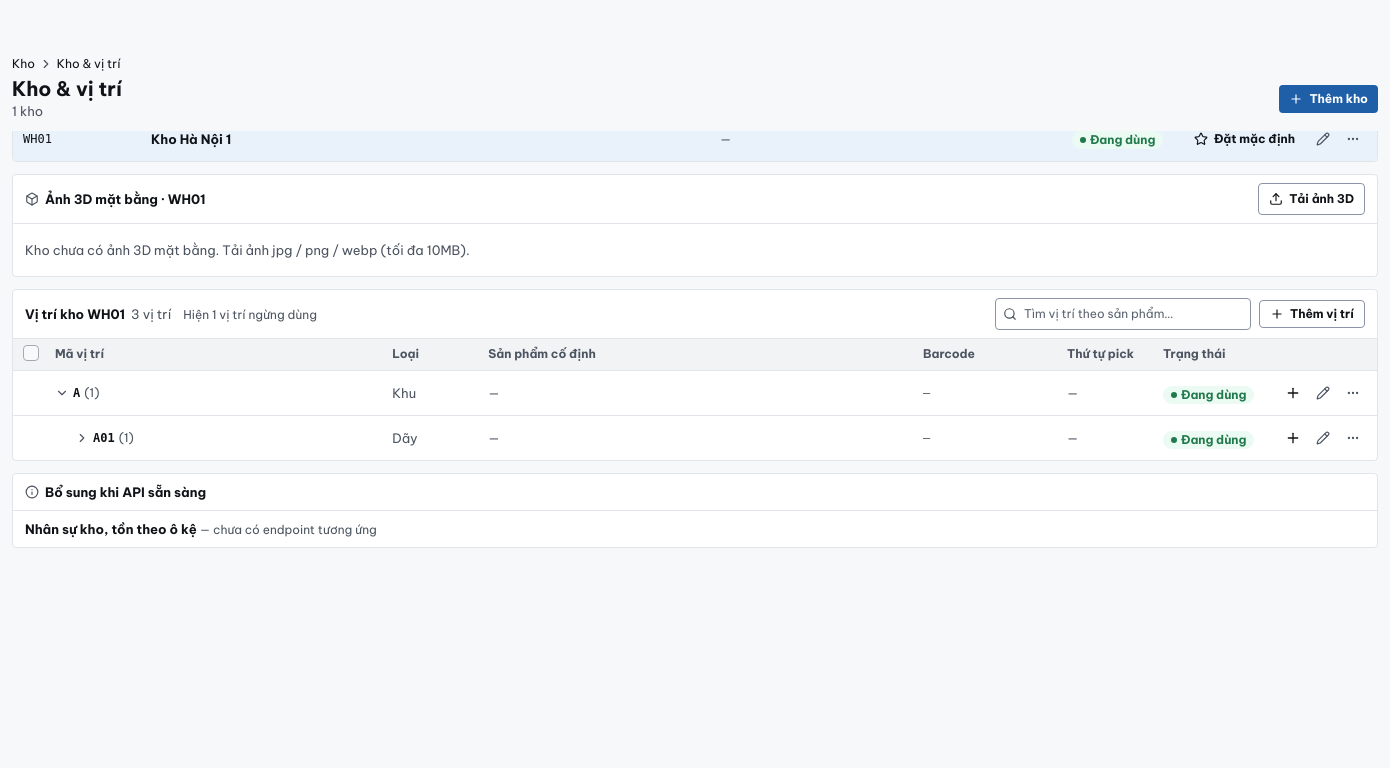
it: LocationsPanel — cây vị trí kho + CRUD › kho chọn qua ?wh= hiện cây: node gốc mở sẵn, node sâu đóng, mở bằng chevron
Expected: the heading "Vị trí kho WH01" is shown, [25,304,317,324]
Expected: the text "3 vị trí" is shown, [131,306,171,322]
Click the button named "Mở rộng A01" at (82, 438), box [75,431,89,445]
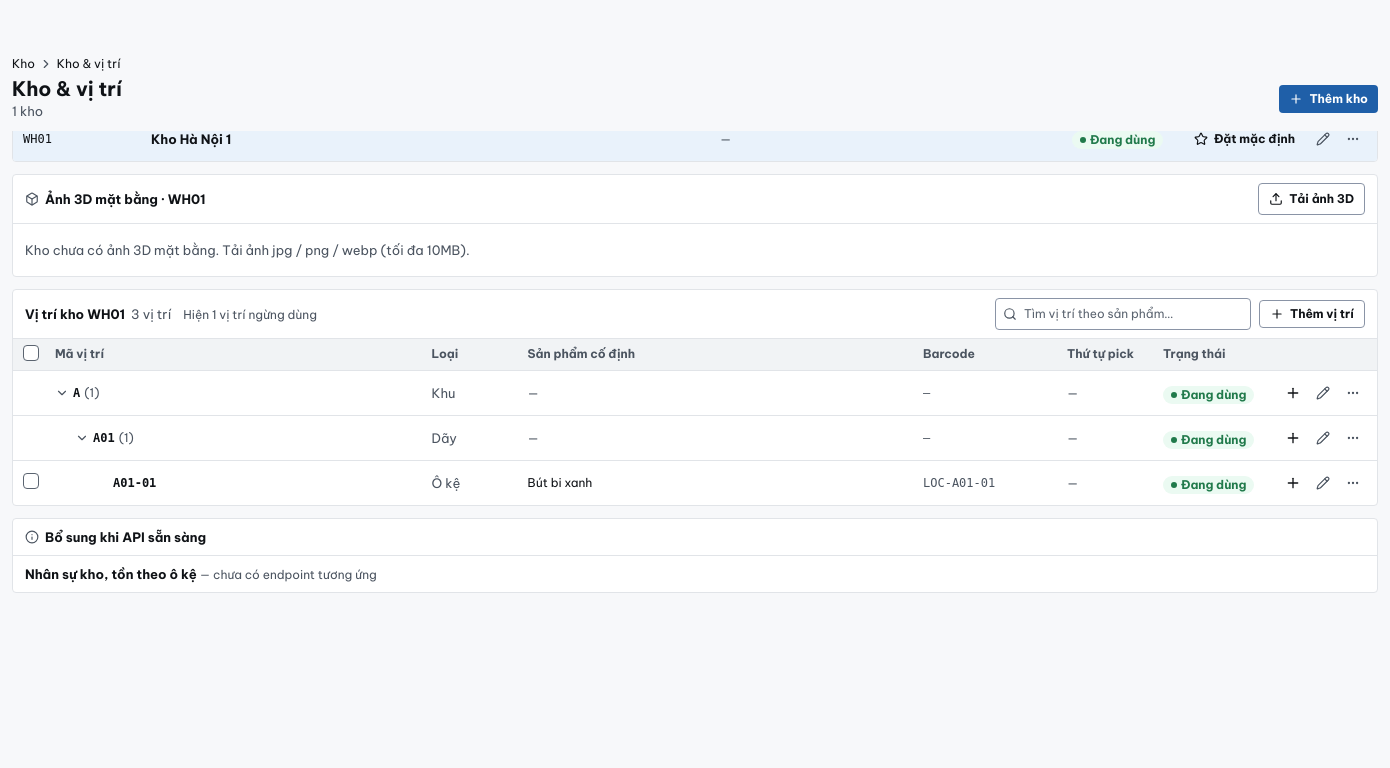
Result: the text "A01-01" is shown at [113,475,156,491]
